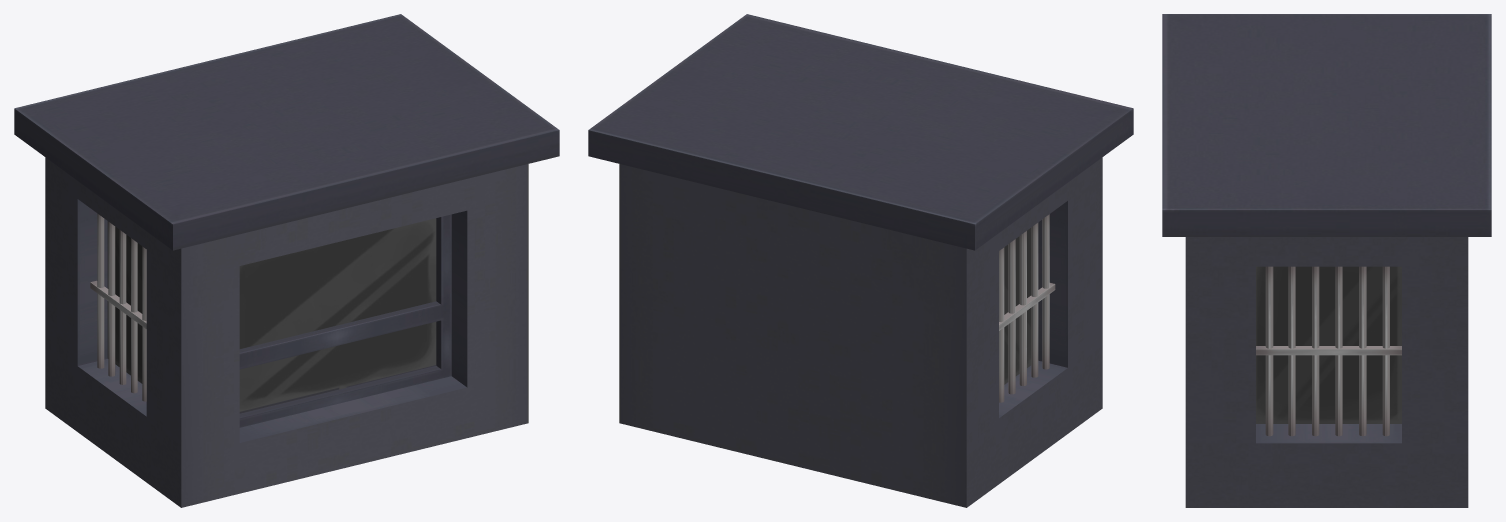
File: S1_mod_BarBuilding_002.fbx
3 views of the same model, side by side, from view 1: azimuth 30°, elevation 25°; view 2: azimuth 150°, elevation 25°; view 3: azimuth 270°, elevation 25° (orthographic). The views are drawn at different scales.
Parts seen in each view (by area): view 1: S1_mod_BarBuilding_002; view 2: S1_mod_BarBuilding_002; view 3: S1_mod_BarBuilding_002.
Part boxes in pixels (x1,y1,x2,y2): S1_mod_BarBuilding_002: (14,14,559,507); S1_mod_BarBuilding_002: (588,14,1133,507); S1_mod_BarBuilding_002: (1162,14,1491,507).
Size of the model in its own units: 463 by 339 by 329.
